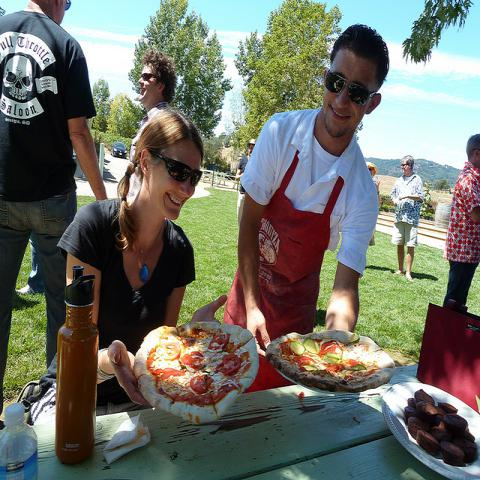car: (110, 142, 128, 158)
